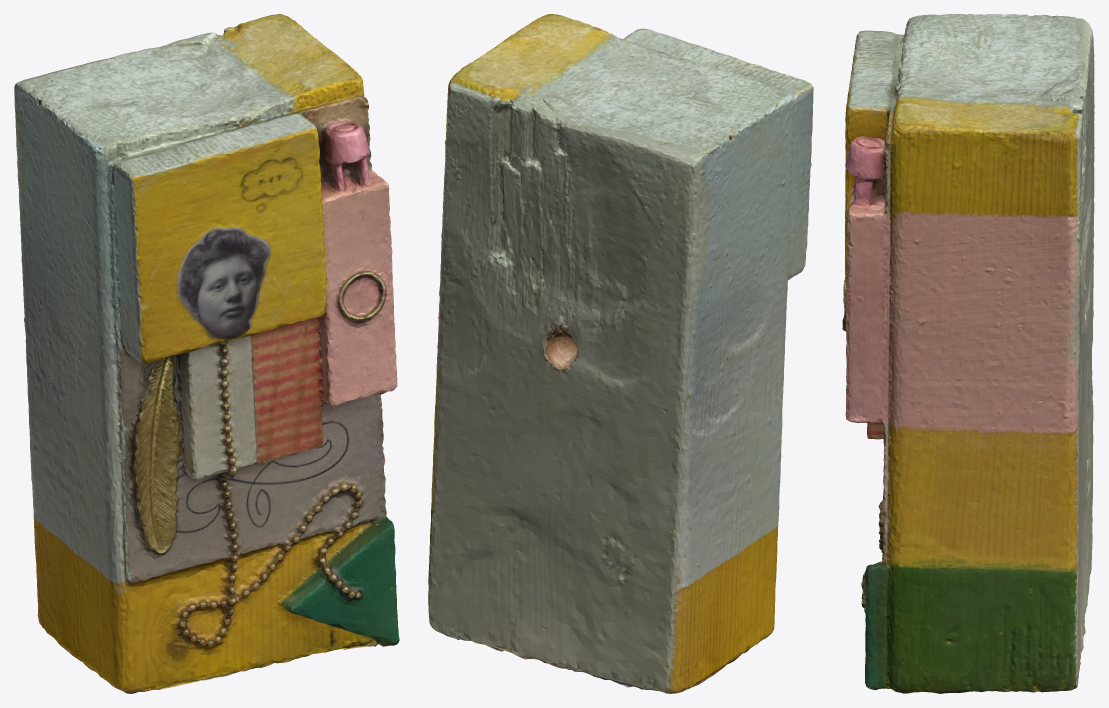
The model's file is A_fucking_walk.fbx.
3 renders of one model, left to right at view 1: azimuth 30°, elevation 25°; view 2: azimuth 150°, elevation 25°; view 3: azimuth 270°, elevation 25°, orthographic.
Parts seen in each view (by area): view 1: Object; view 2: Object; view 3: Object.
Part boxes in pixels (left/top/right/bottom): Object: left=14, top=14, right=399, bottom=693; Object: left=428, top=14, right=813, bottom=693; Object: left=842, top=14, right=1094, bottom=693.
Bounding box in the file's own units: 7.78 × 14.52 × 5.91.
Materials: 1 (1 with a texture image).
